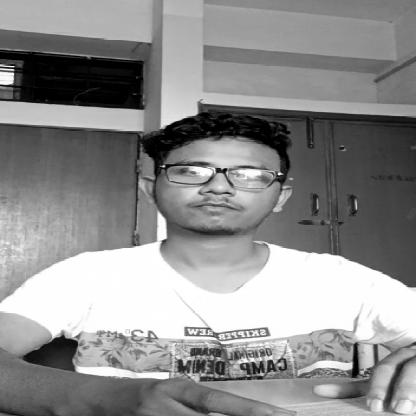Normal: (150, 109, 287, 238)
